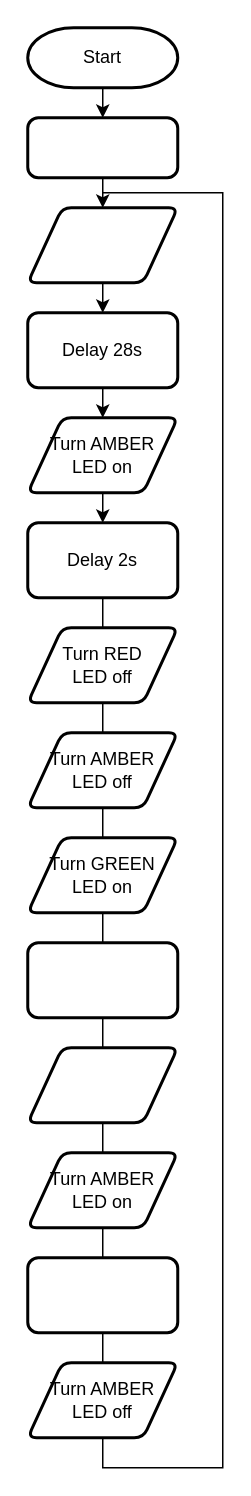
Some shapes in this 251 by 1496 pixel diagram are drawn without their labels. The shapes that lost their labels are listed below. From the top down, each one's box as (x1, y1, x2, y2) in pixels, then its label:
(26, 116, 178, 178): Setup
(26, 206, 178, 284): Turn RED LED on
(26, 940, 178, 1018): Delay 55s
(26, 1046, 178, 1124): Turn GREEN LED off
(26, 1256, 178, 1334): Delay 5s
